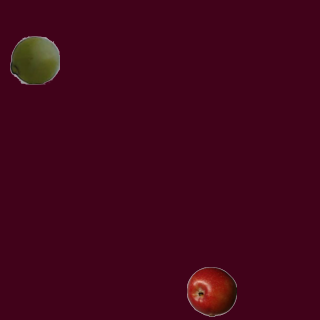Apple Braeburn: (186, 266, 236, 316)
Grape White 4: (9, 34, 59, 84)
